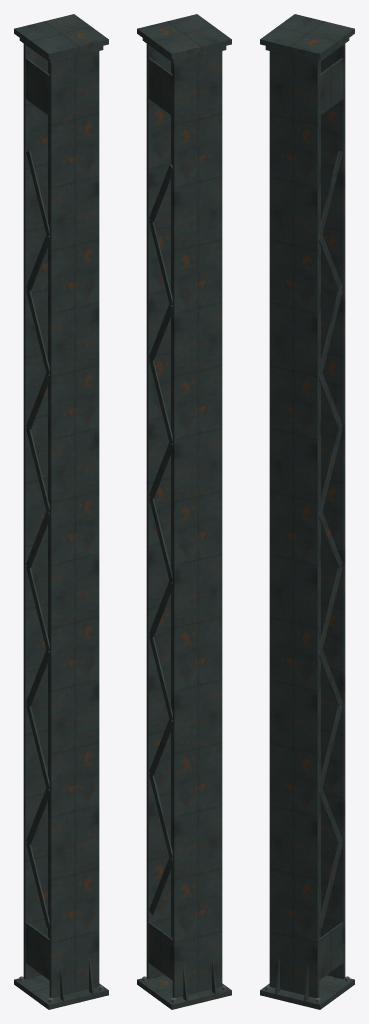
File: rail-pier.glb
The picture shows the model from 3 angles, left to right: view 1: azimuth 30°, elevation 25°; view 2: azimuth 210°, elevation 25°; view 3: azimuth 330°, elevation 25°; orthographic projection.
Parts seen in each view (by area): view 1: rail_pier; view 2: rail_pier; view 3: rail_pier.
Boxes of the visible parts, <box> form: rail_pier: <box>14,14,108,1009</box>; rail_pier: <box>137,14,231,1009</box>; rail_pier: <box>260,14,354,1009</box>.
Size of the model in its own units: 0.5001 by 7.6 by 0.5001.
2 materials, 1 textured.
